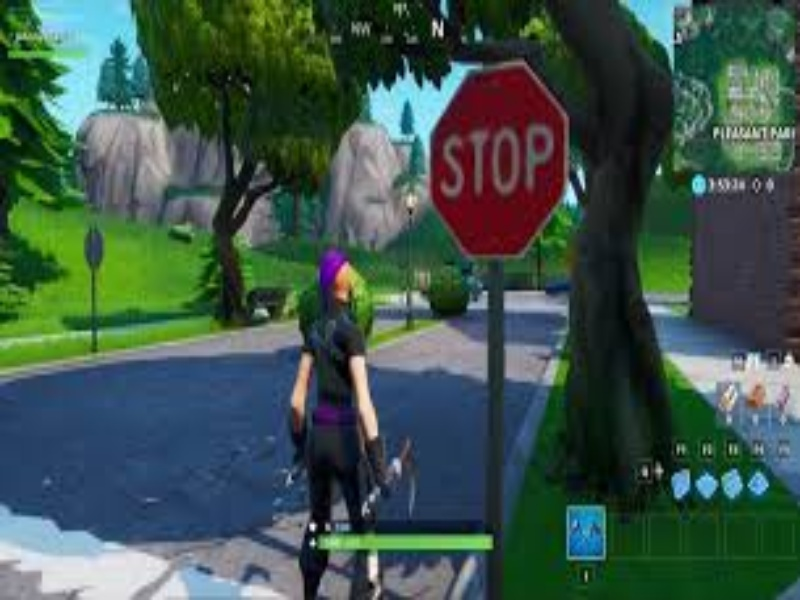Stop_Sign: (431, 57, 568, 259)
